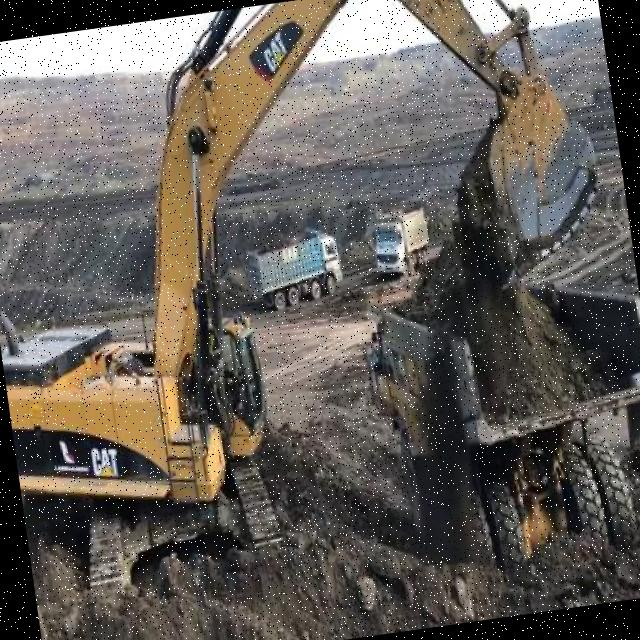Dump Truck: (355, 262, 640, 598), (244, 225, 346, 314), (366, 202, 434, 285)
Excavator: (0, 0, 640, 595)
